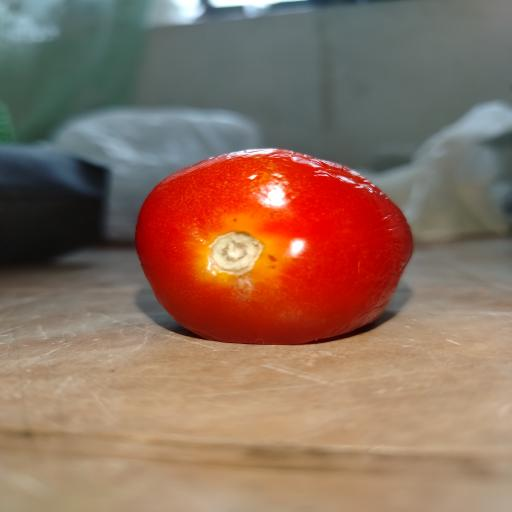spoiled: (136, 149, 412, 345)
